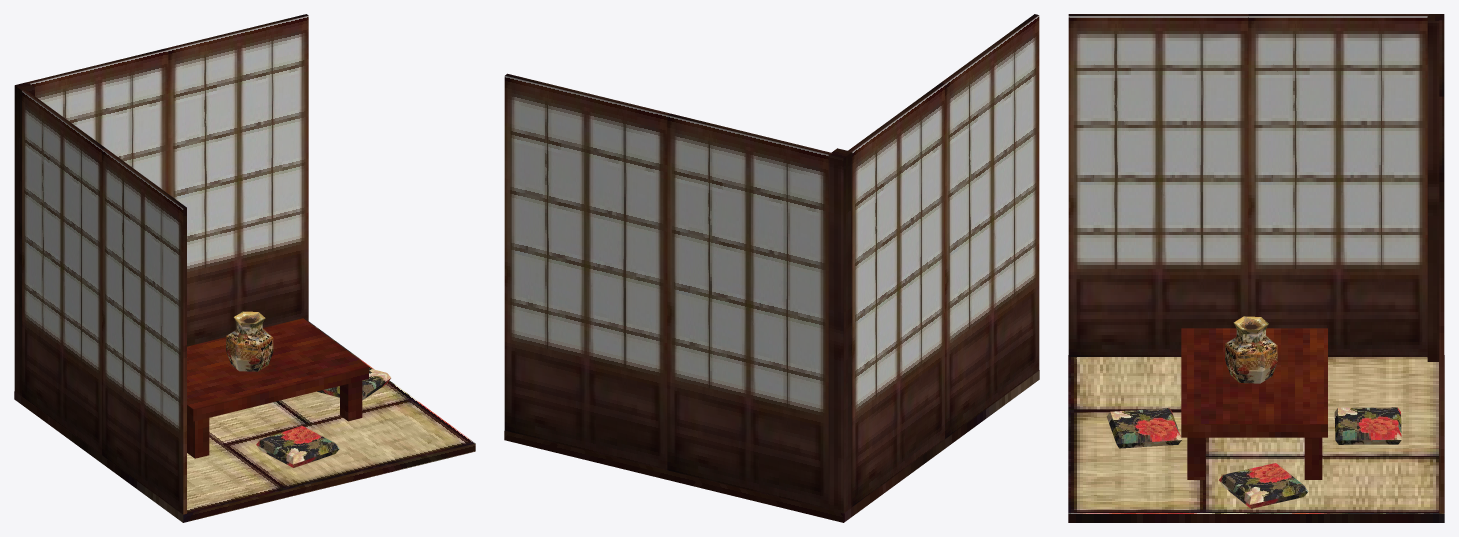
File: japa.glb
3 renders of one model, left to right at view 1: azimuth 30°, elevation 25°; view 2: azimuth 150°, elevation 25°; view 3: azimuth 270°, elevation 25°, orthographic. The views are drawn at different scales.
Parts seen in each view (by area): view 1: Wall.002_9, Wall_5, Wall.001_8, Tatami Mat_1, Table_3, Wall.003_10, Corner Support_6, Vase_7, Floor Cushion_4, Floor Cushion.001_11; view 2: Wall.002_9, Wall.003_10, Wall_5, Wall.001_8, Corner Support_6, Tatami Mat_1; view 3: Wall_5, Wall.001_8, Tatami Mat_1, Table_3, Corner Support_6, Vase_7, Floor Cushion.001_11, Floor Cushion.002_12, Wall.002_9, Floor Cushion_4, Wall.003_10.
Part boxes in pixels (x1=…): Wall.002_9: x1=166, y1=14, x2=308, y2=346; Wall_5: x1=102, y1=148, x2=186, y2=514; Wall.001_8: x1=22, y1=89, x2=105, y2=454; Tatami Mat_1: x1=14, y1=321, x2=475, y2=522; Table_3: x1=187, y1=318, x2=368, y2=458; Wall.003_10: x1=26, y1=48, x2=168, y2=193; Corner Support_6: x1=14, y1=82, x2=34, y2=396; Vase_7: x1=226, y1=311, x2=273, y2=371; Floor Cushion_4: x1=256, y1=425, x2=339, y2=467; Floor Cushion.001_11: x1=317, y1=368, x2=390, y2=399; Wall.002_9: x1=504, y1=73, x2=669, y2=470; Wall.003_10: x1=667, y1=113, x2=832, y2=509; Wall_5: x1=941, y1=14, x2=1039, y2=438; Wall.001_8: x1=847, y1=82, x2=945, y2=506; Corner Support_6: x1=828, y1=148, x2=852, y2=513; Tatami Mat_1: x1=504, y1=370, x2=1039, y2=522; Wall_5: x1=1068, y1=14, x2=1248, y2=356; Wall.001_8: x1=1248, y1=14, x2=1428, y2=356; Tatami Mat_1: x1=1068, y1=355, x2=1444, y2=522; Table_3: x1=1181, y1=328, x2=1327, y2=479; Corner Support_6: x1=1427, y1=14, x2=1444, y2=361; Vase_7: x1=1225, y1=316, x2=1277, y2=383; Floor Cushion.001_11: x1=1219, y1=463, x2=1308, y2=508; Floor Cushion.002_12: x1=1334, y1=407, x2=1401, y2=444; Wall.002_9: x1=1439, y1=96, x2=1444, y2=513; Floor Cushion_4: x1=1106, y1=408, x2=1181, y2=448; Wall.003_10: x1=1439, y1=20, x2=1444, y2=96.
Bounding box in the file's own units: 20.03 × 20.55 × 20.03.
12 materials, 12 textured.
